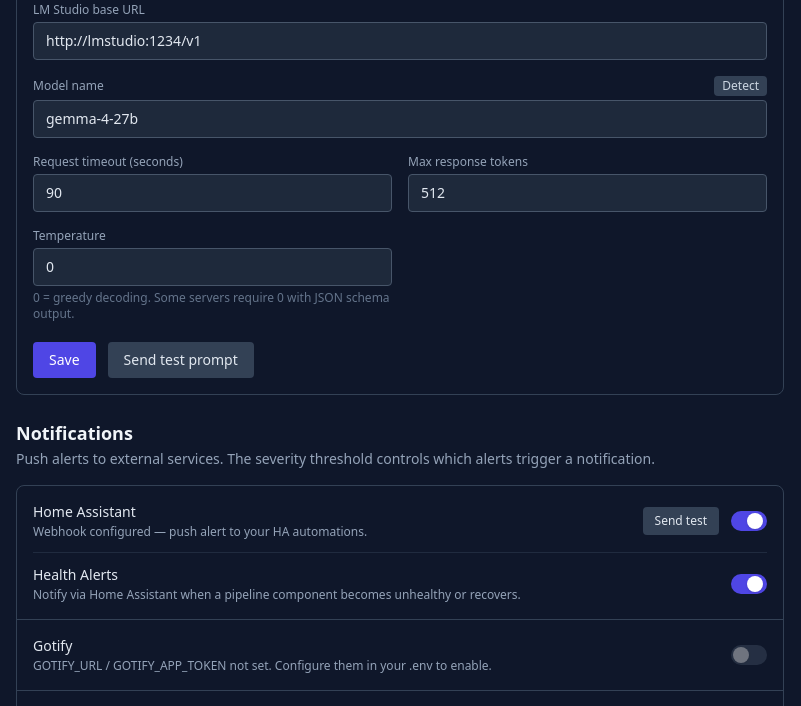
Test case: ConfigPage — AI Enrichment › renders pretty-printed JSON response after successful test
This screenshot has width=801, height=706.
(page scrolled)
Check: the field with placeholder "http://192.168.1.x:1234/v1" below "LM Studio base URL" is shown, box [33,22,767,60]
Click the button "Send test prompt": (181, 360) [108,342,254,378]
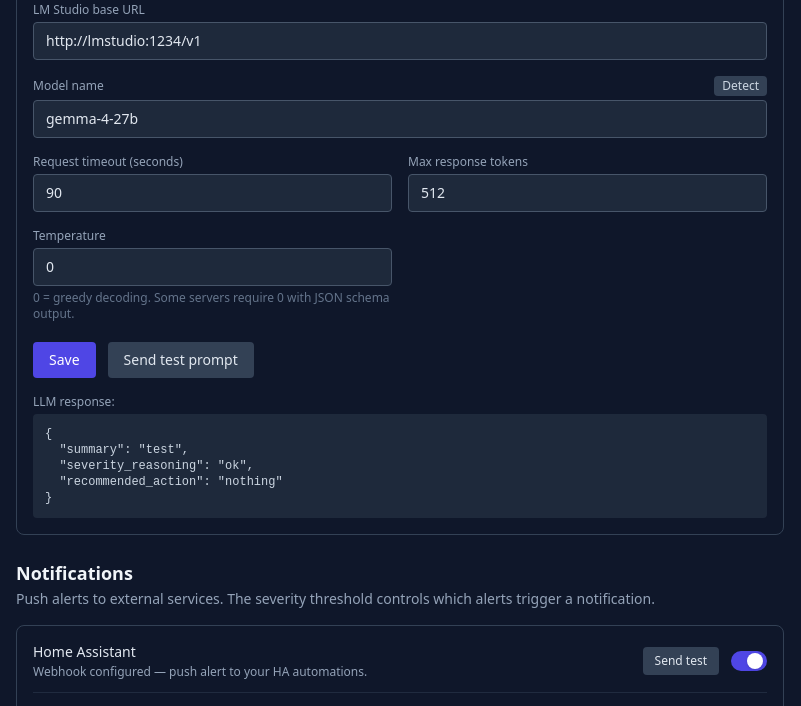
Check: the text "LLM response:" is shown, box [33,393,115,410]
Check: the text "\"summary\"" is shown, box [45,427,283,505]
